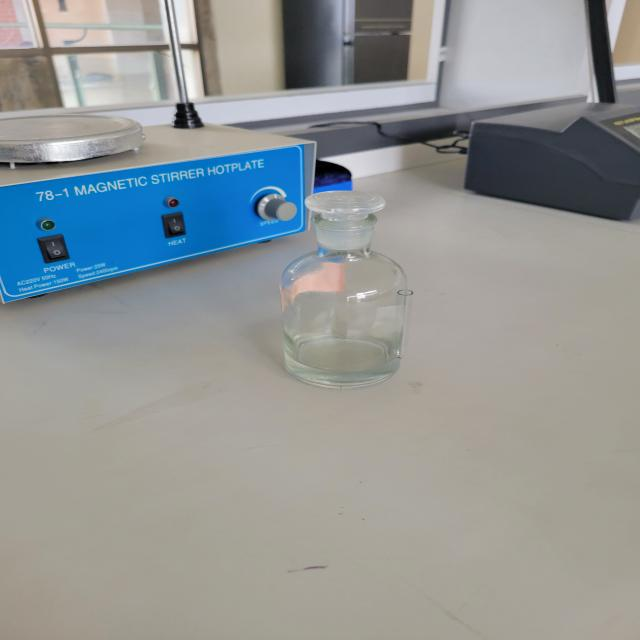Reagent_Bottle: (235, 161, 486, 419)
